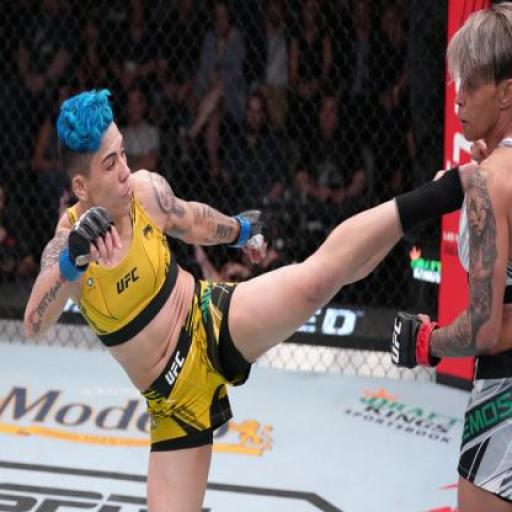Fighting: (26, 12, 512, 512)
